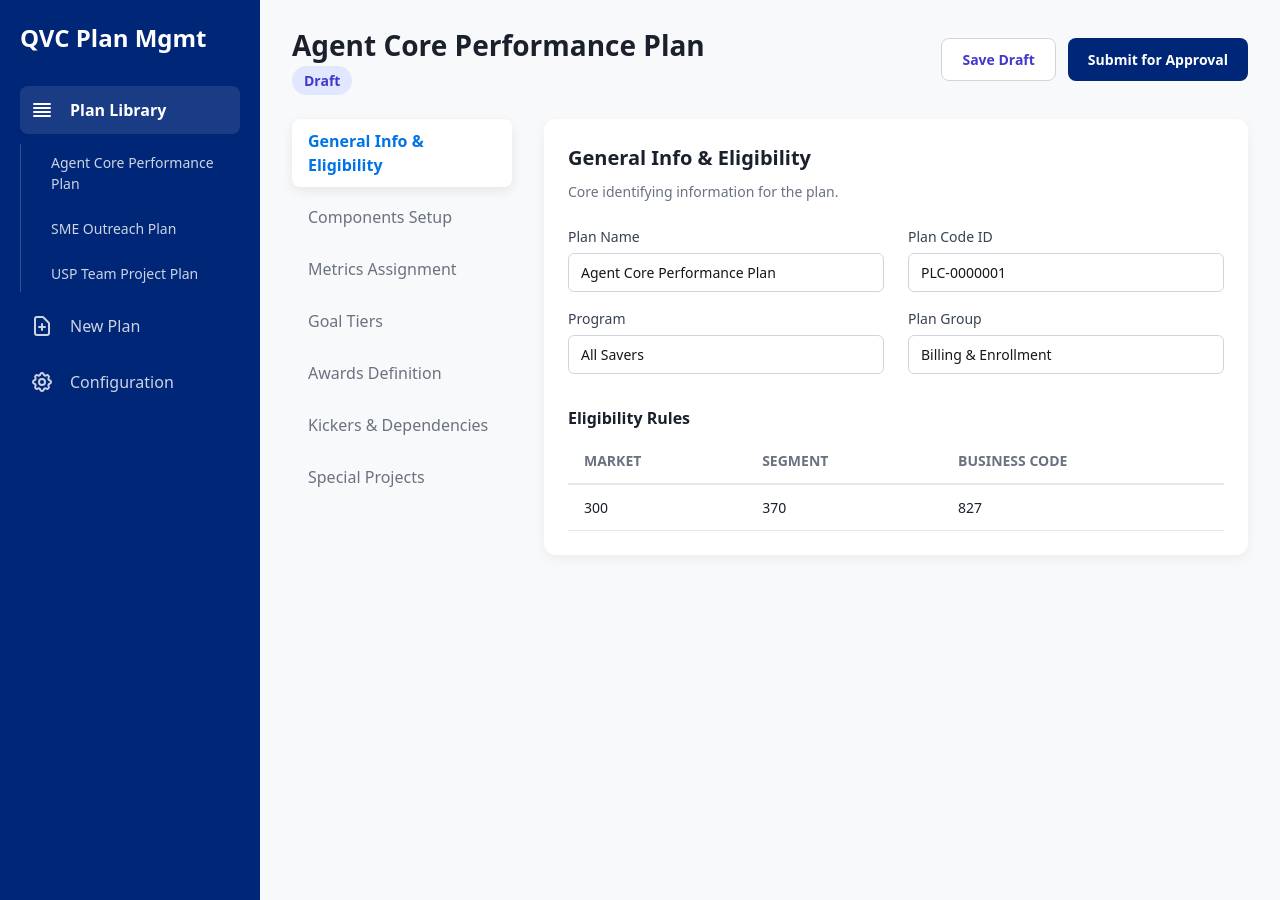
QVC Plan Management System › allows switching between different plans
# Click on the second plan in the sidebar
Click the text "SME Outreach Plan" at (114, 228), box [51,219,176,238]
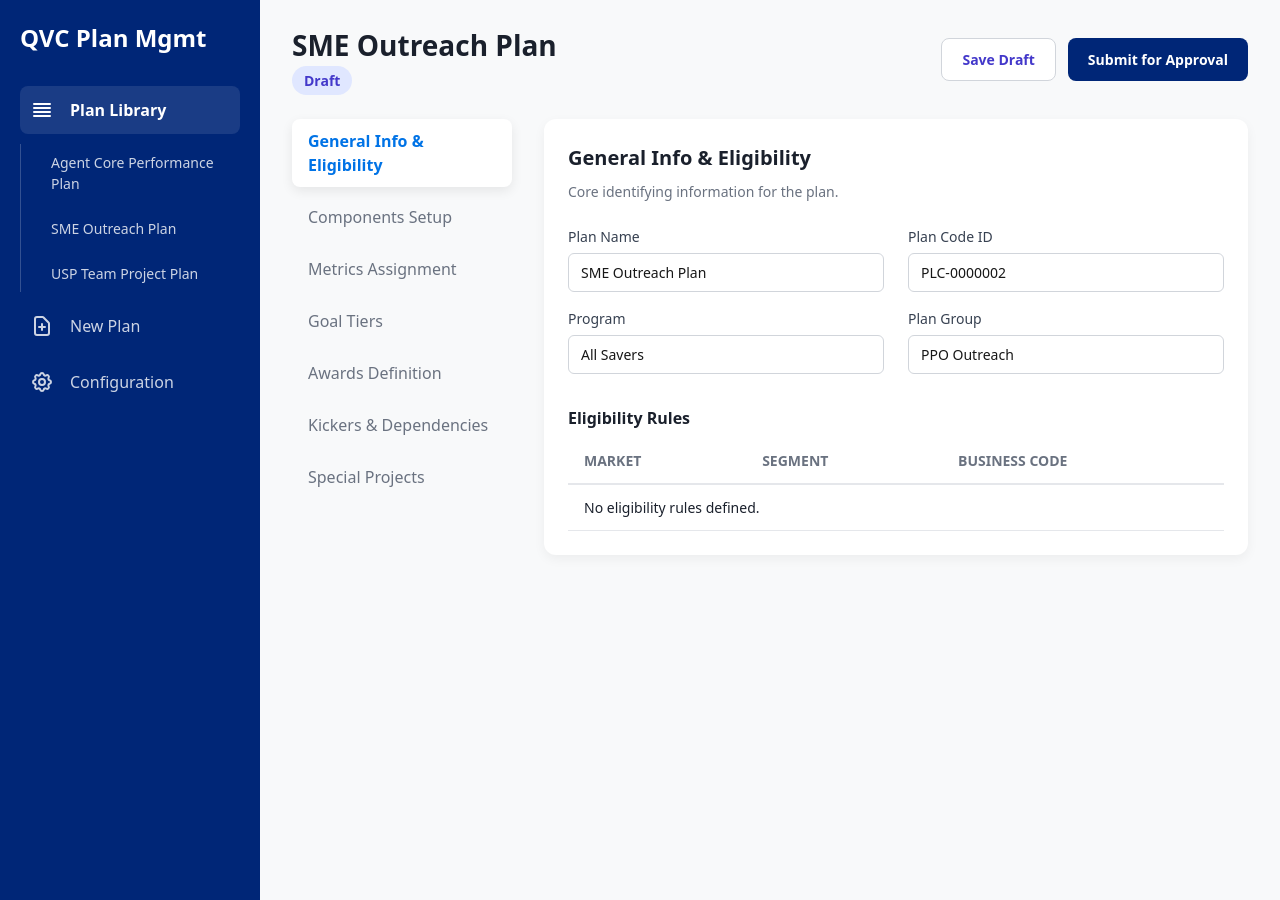
Expected: the text "Core identifying information for the plan." is shown, [568,182,838,201]
Expected: the heading "SME Outreach Plan" is shown, [292,24,557,66]
Expected: the field showing "PLC-0000002" below "Plan Code ID" is shown, [908,253,1224,292]
